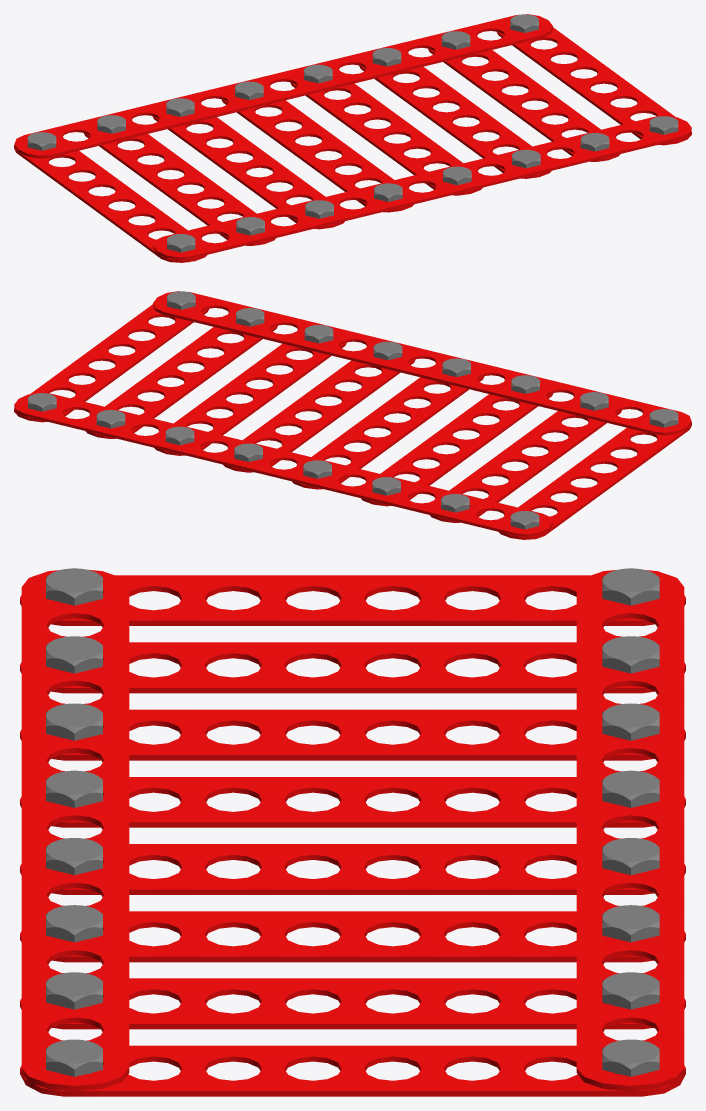
The model's file is ConstructedPanelRed.fbx.
The picture shows the model from 3 angles, top to bottom: view 1: azimuth 30°, elevation 25°; view 2: azimuth 150°, elevation 25°; view 3: azimuth 270°, elevation 25°; orthographic projection. The views are drawn at different scales.
Parts seen in each view (by area): view 1: Bridge, 2HighConnection; view 2: Bridge, 2HighConnection; view 3: Bridge, 2HighConnection.
Boxes of the visible parts, box(x1,y1,x2,y2) form: Bridge: box(14, 14, 691, 262); 2HighConnection: box(27, 14, 678, 262); Bridge: box(14, 291, 691, 539); 2HighConnection: box(28, 291, 678, 529); Bridge: box(20, 569, 685, 1096); 2HighConnection: box(46, 568, 659, 1095).
Size of the model in its own units: 39.25 by 1.13 by 21.36.
